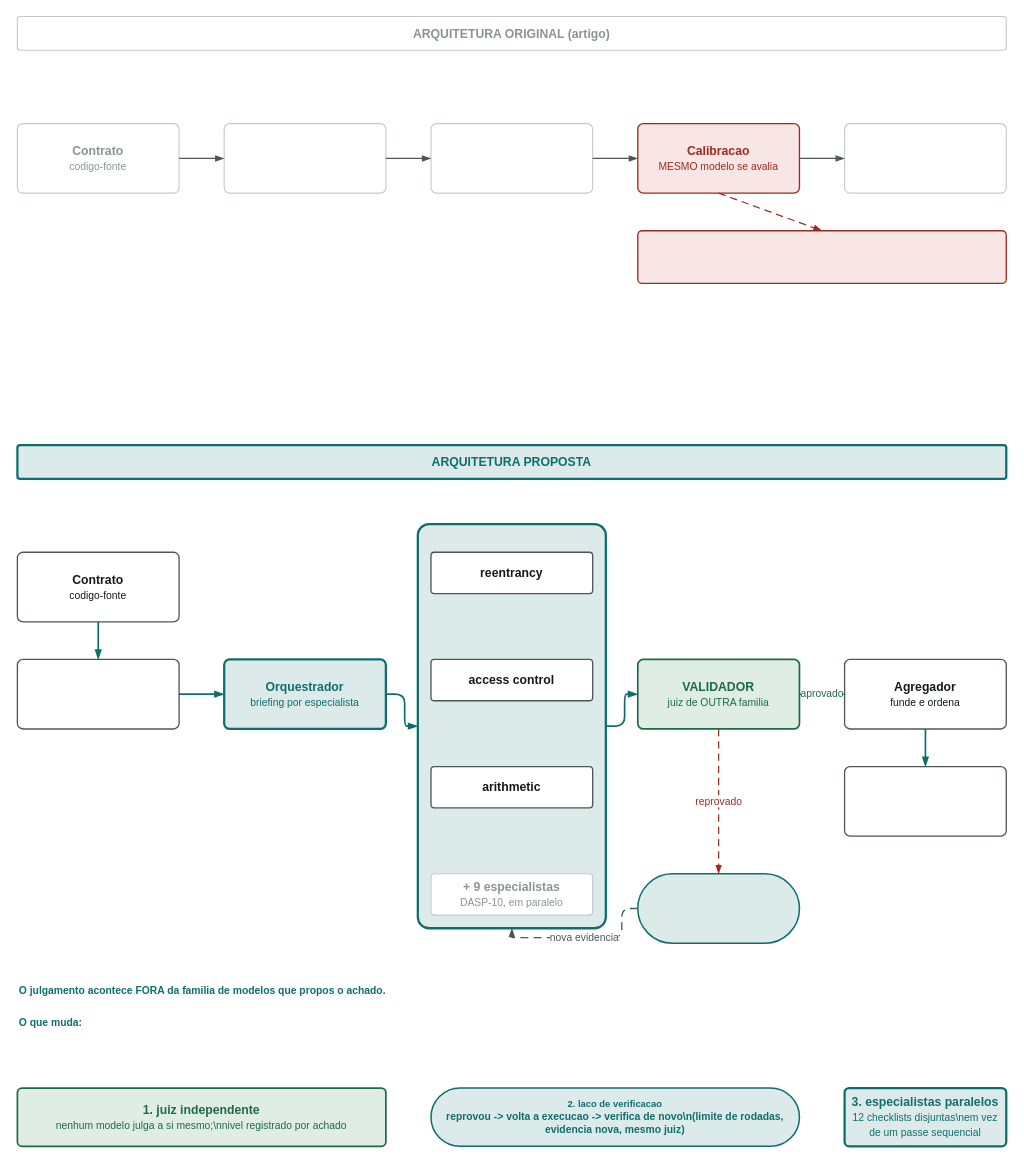
Some shapes in this 1024 by 1164 pixel diagram are drawn without their labels. Each missing label, with the box of its shape:
Contexto resumo do contrato: (16, 658, 179, 729)
Especialistas (paralelo): (416, 522, 606, 929)
Execucao um LLM, sequencial: (430, 123, 593, 193)
Planejamento plano de auditoria: (223, 123, 386, 193)
Refinamento volta ao especialista: (637, 873, 800, 944)
Relatorio achados + independencia: (843, 765, 1006, 836)
Relatorio achados ordenados: (844, 123, 1006, 193)
vies de auto-preferencia infla a confianca que sustenta todo o ranking: (637, 230, 1006, 284)
